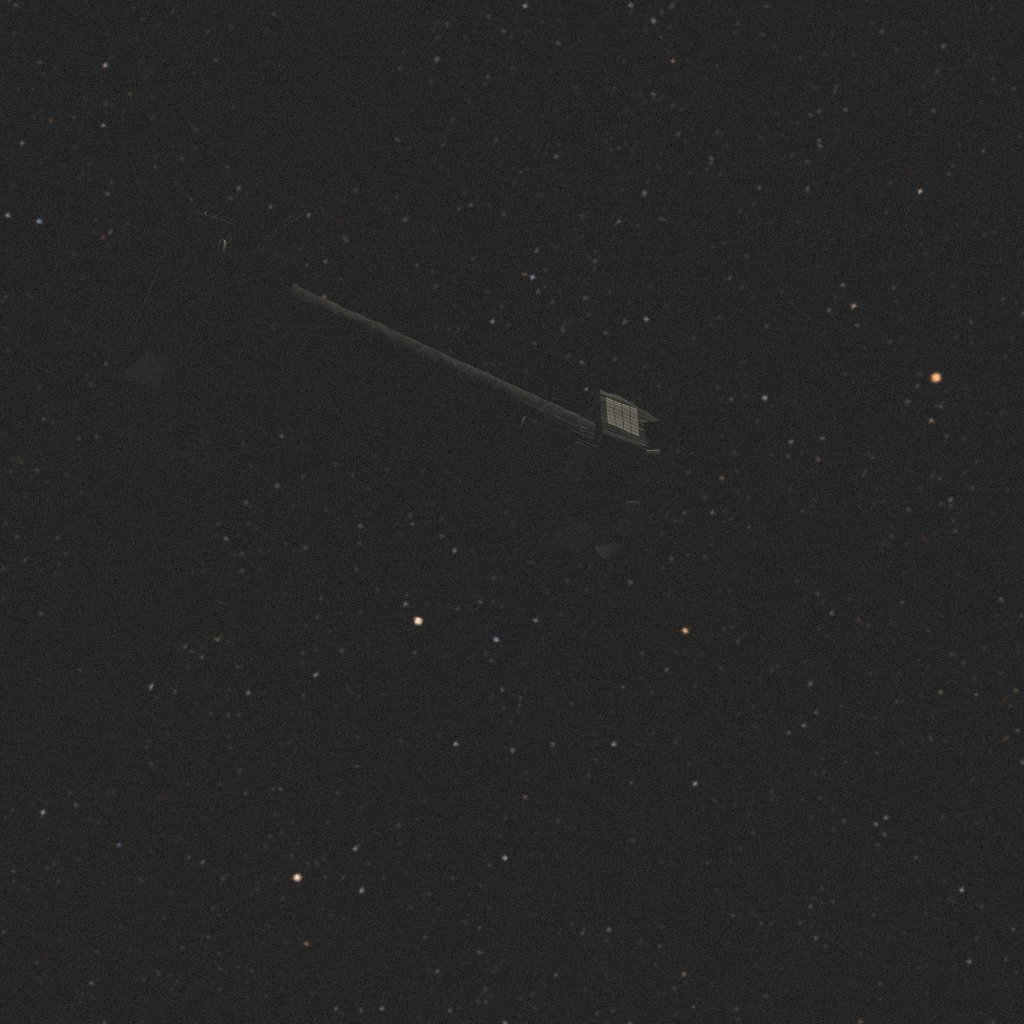xmm_newton: (0, 0, 681, 801)
